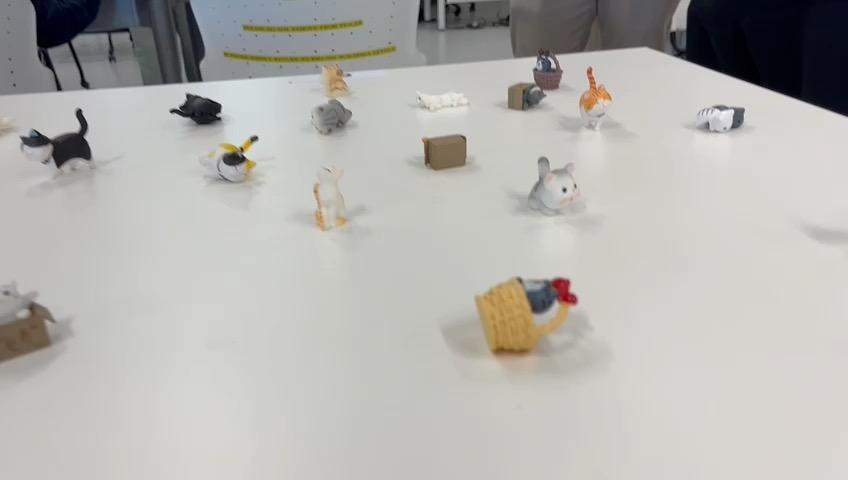pet: (472, 269, 591, 356), (17, 103, 104, 176), (0, 273, 61, 369), (523, 152, 594, 218), (308, 158, 356, 233), (197, 134, 262, 185), (168, 84, 228, 128), (692, 98, 752, 138), (418, 129, 473, 172), (579, 67, 614, 134), (410, 83, 473, 115), (307, 98, 355, 134), (530, 48, 565, 90), (505, 79, 547, 112), (320, 62, 350, 99)
